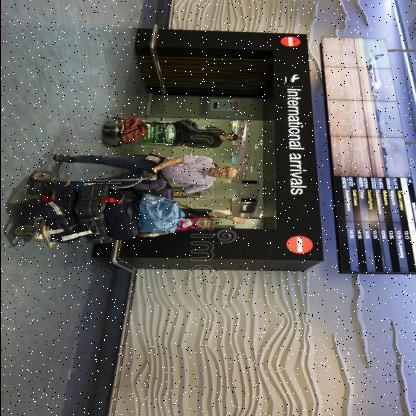airport-trolley: (4, 167, 158, 250), (98, 114, 183, 150)
